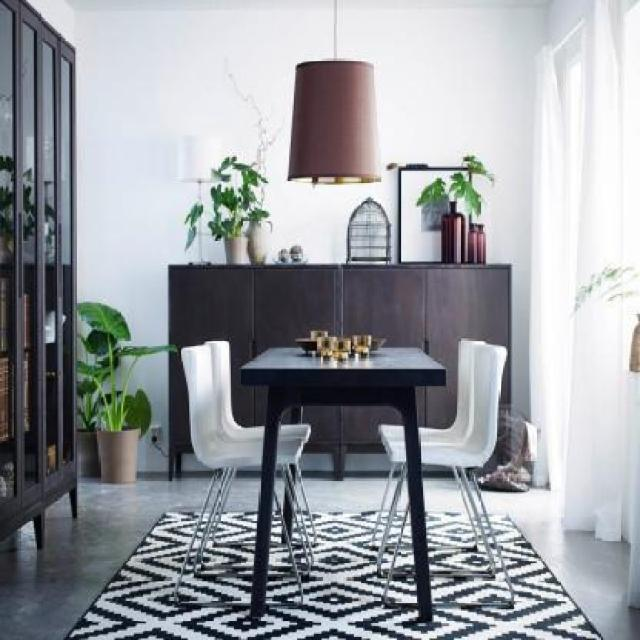tables: (237, 343, 446, 622)
